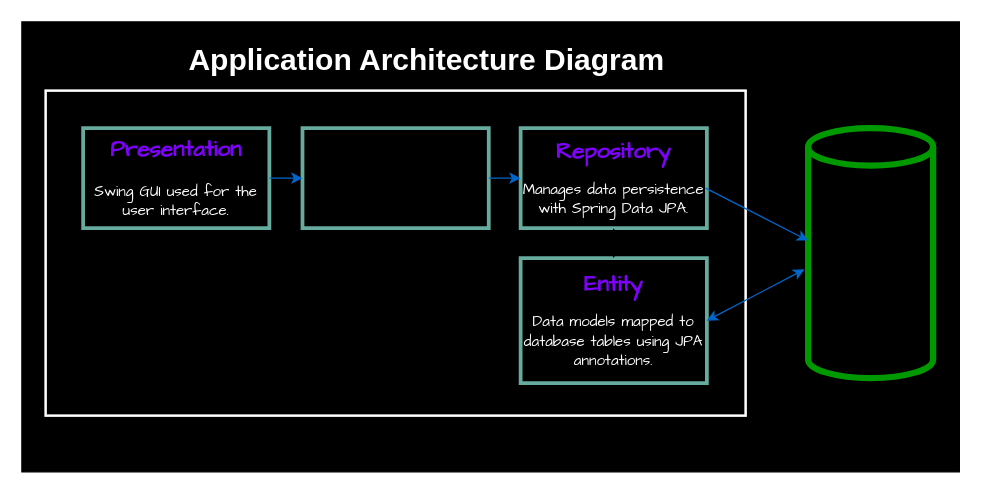
Image size: 981x494. Some labels were removed from this diagram. Each missing label, with the centre of its shape:
"Database (MySQL)" belongs at (870,252).
"Service Business logic handled by Spring Boot" belongs at (395,177).
